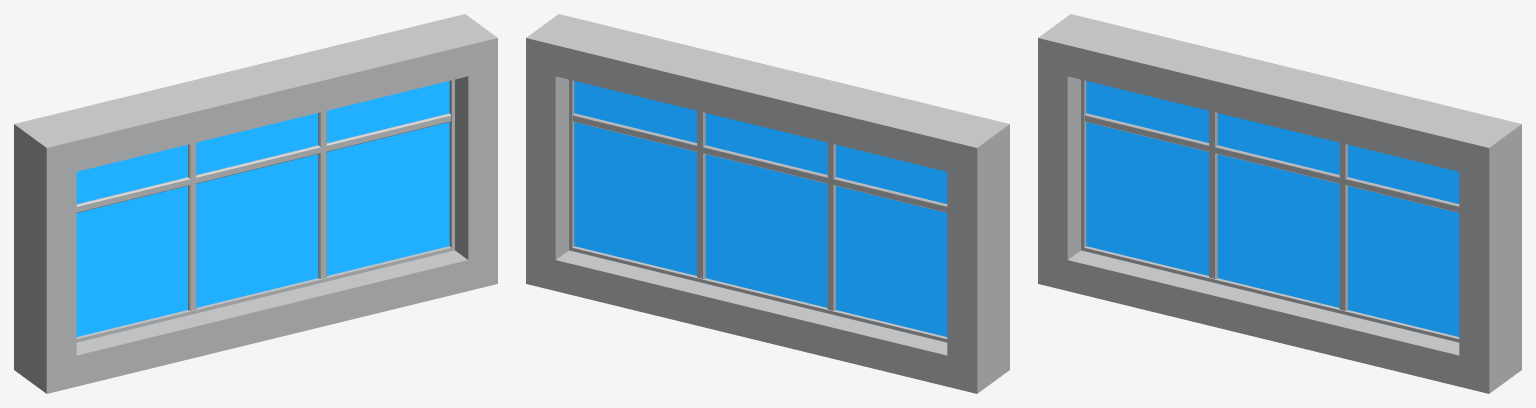
File: janela_larga_bandeira_branca.glb
3 views of the same model, side by side, from view 1: azimuth 30°, elevation 25°; view 2: azimuth 150°, elevation 25°; view 3: azimuth 330°, elevation 25° (orthographic).
Parts seen in each view (by area): view 1: janela_larga_bandeira_branca; view 2: janela_larga_bandeira_branca; view 3: janela_larga_bandeira_branca.
Boxes of the visible parts, left/top/right/bottom form: janela_larga_bandeira_branca: left=14, top=14, right=497, bottom=393; janela_larga_bandeira_branca: left=526, top=14, right=1009, bottom=393; janela_larga_bandeira_branca: left=1038, top=14, right=1521, bottom=393.
Bounding box in the file's own units: 1.67 × 0.87 × 0.21.
